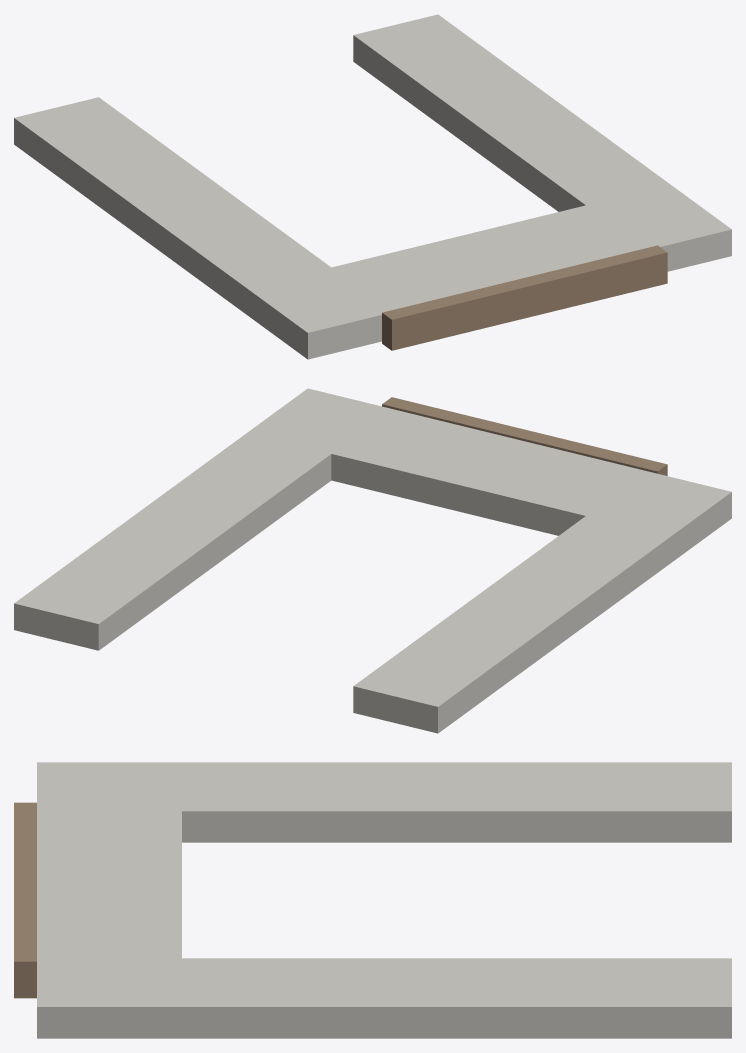
File: wall_doorframe.glb
3 renders of one model, top to bottom at view 1: azimuth 30°, elevation 25°; view 2: azimuth 150°, elevation 25°; view 3: azimuth 270°, elevation 25°, orthographic. The views are drawn at different scales.
Visible parts, largest first — view 1: world; view 2: world; view 3: world.
Boxes of the visible parts, x1,y1,x2,y2 form: world: (14,14,731,359); world: (14,388,731,733); world: (14,762,731,1038).
Size of the model in its own units: 2 by 0.14 by 2.48.
